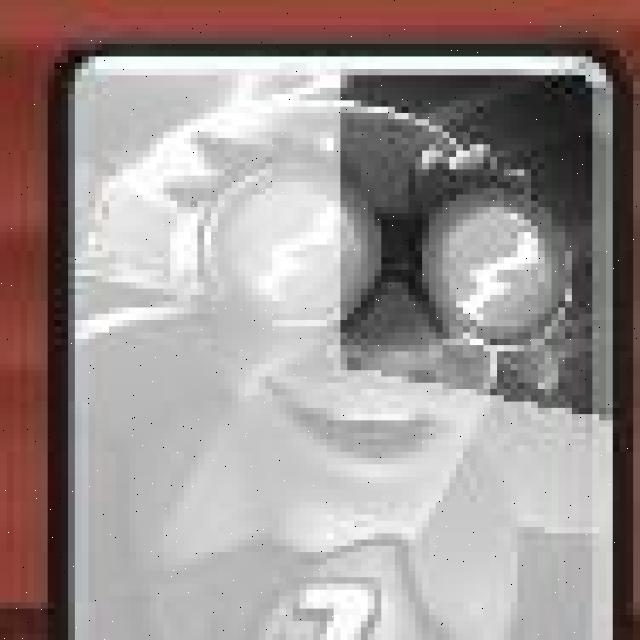Electro_Giant: (50, 42, 634, 640)
